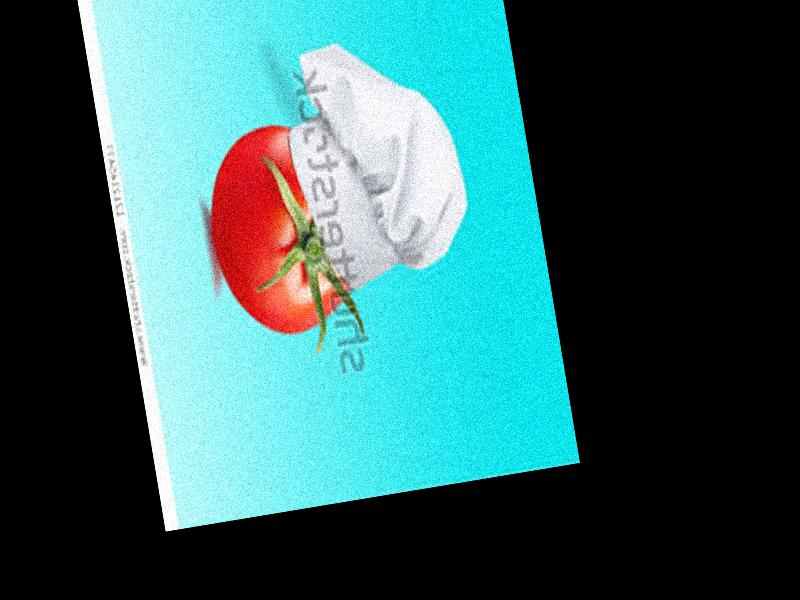Tomato: (198, 117, 356, 340)
